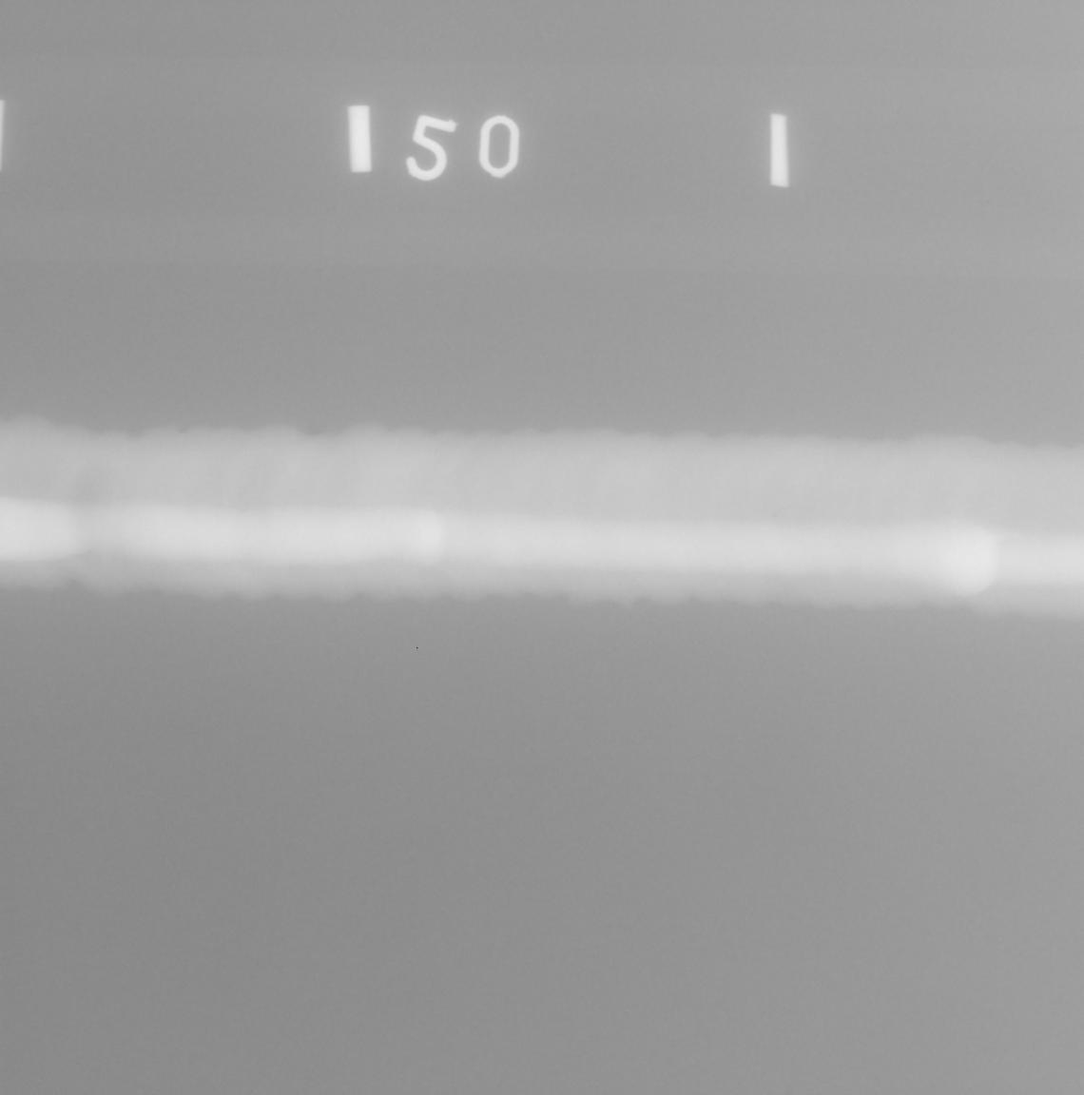Pore/Porosity: (772, 515, 776, 518)
